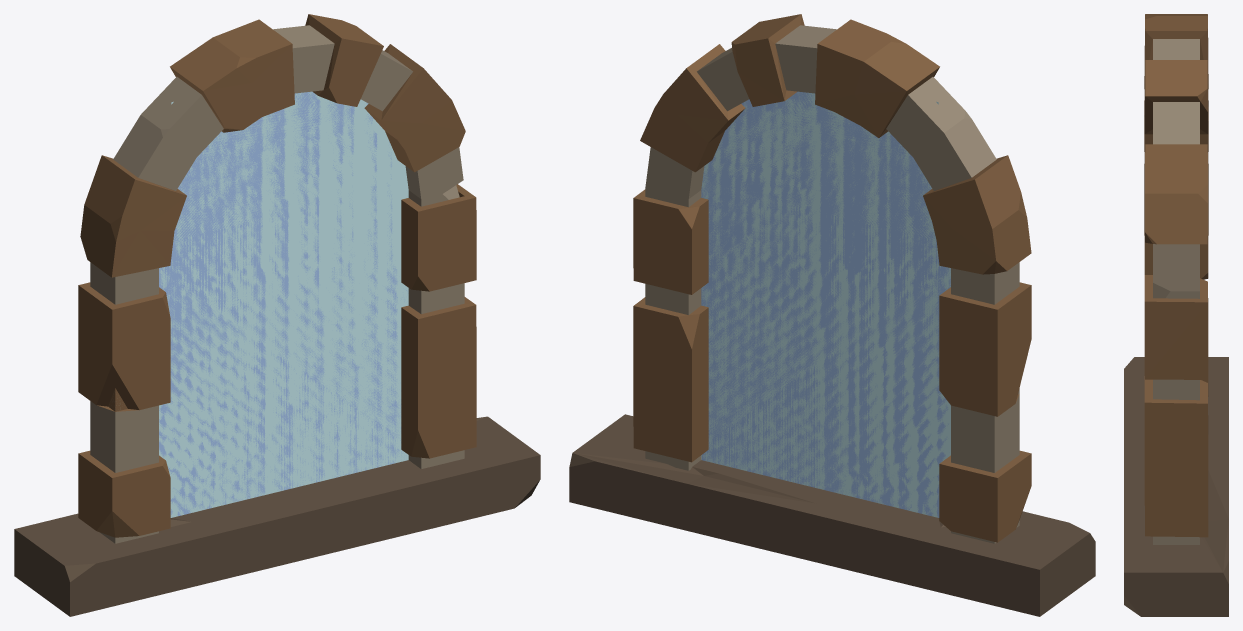
Rendered from Portal rill.dae.
3 renders of one model, left to right at view 1: azimuth 30°, elevation 25°; view 2: azimuth 150°, elevation 25°; view 3: azimuth 270°, elevation 25°, orthographic. The views are drawn at different scales.
Visible parts, largest first — view 1: Plane.002, Plane.001, Plane.004, Plane.003, Plane; view 2: Plane.004, Plane.001, Plane.002, Plane.003, Plane; view 3: Plane.001, Plane.003, Plane.
Boxes of the visible parts, box(x1,y1,x2,y2) form: Plane.002: box(159, 91, 408, 517); Plane.001: box(78, 14, 476, 537); Plane.004: box(159, 92, 408, 516); Plane.003: box(14, 416, 540, 616); Plane: box(90, 25, 464, 543); Plane.004: box(701, 91, 950, 517); Plane.001: box(633, 14, 1031, 542); Plane.002: box(701, 91, 950, 517); Plane.003: box(569, 414, 1095, 616); Plane: box(645, 25, 1019, 543); Plane.001: box(1144, 14, 1208, 537); Plane.003: box(1124, 357, 1228, 616); Plane: box(1153, 39, 1199, 544).
Bounding box in the file's own units: 21.63 × 4.44 × 22.32.
